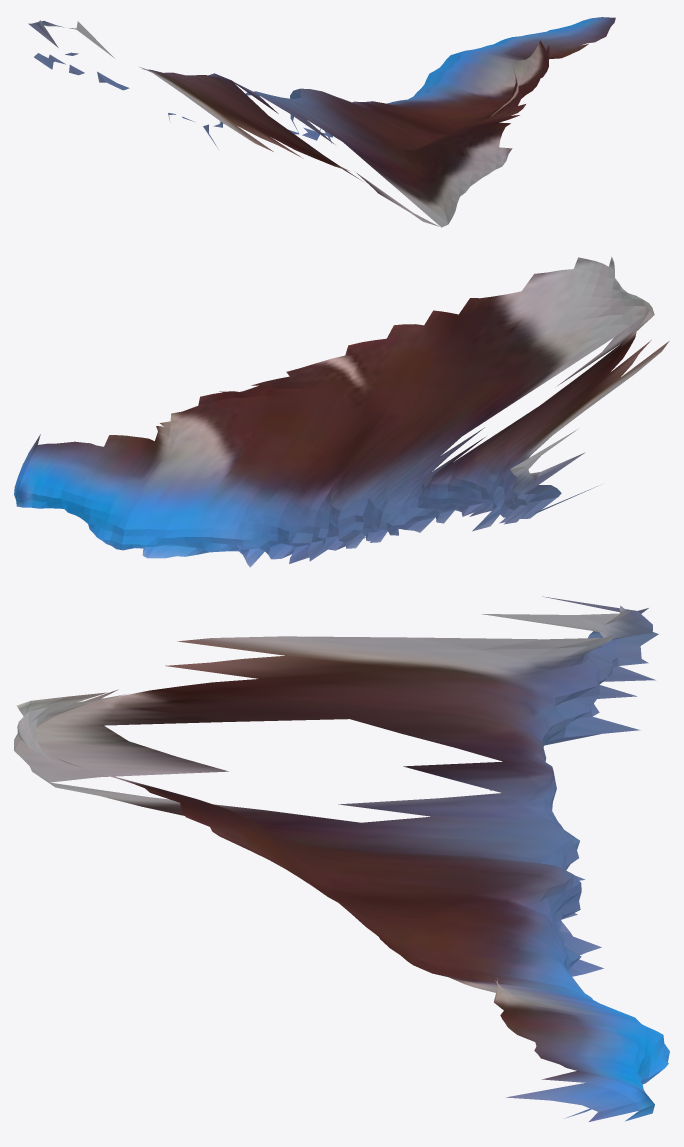
The model's file is observed-surface.glb.
3 views of the same model, one above another, from view 1: azimuth 30°, elevation 25°; view 2: azimuth 150°, elevation 25°; view 3: azimuth 270°, elevation 25° (orthographic). The views are drawn at different scales.
Visible parts, largest first — view 1: geometry_0; view 2: geometry_0; view 3: geometry_0.
Boxes of the visible parts, bbox=[...] form: geometry_0: bbox=[28, 17, 615, 227]; geometry_0: bbox=[14, 256, 669, 567]; geometry_0: bbox=[14, 596, 669, 1121].
Bounding box in the file's own units: 0.5528 × 0.1667 × 0.4362.
Materials: 1 (1 with a texture image).
